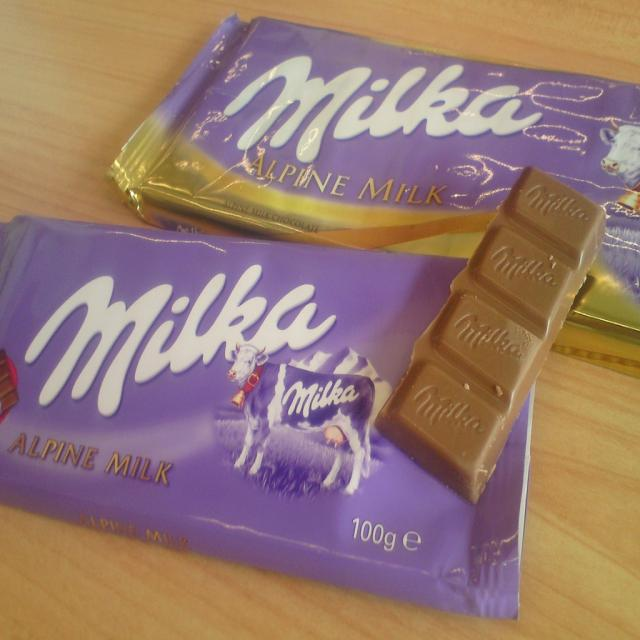milka: (25, 262, 390, 503), (218, 48, 548, 171)
